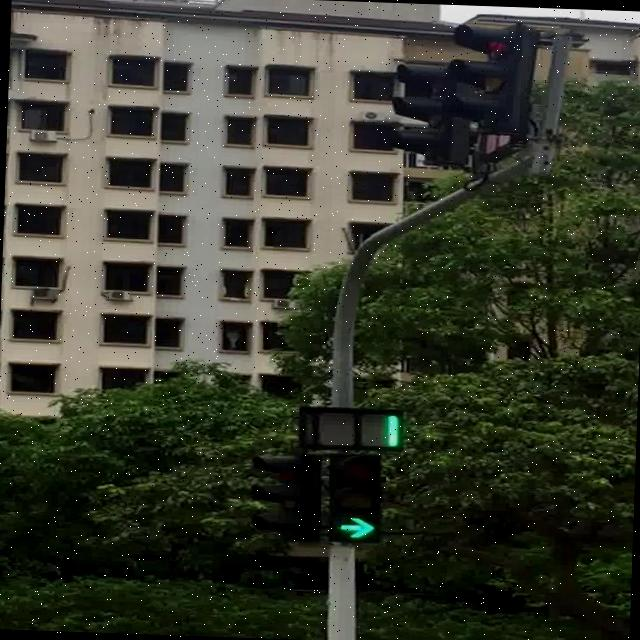green_light: (326, 452, 383, 544)
